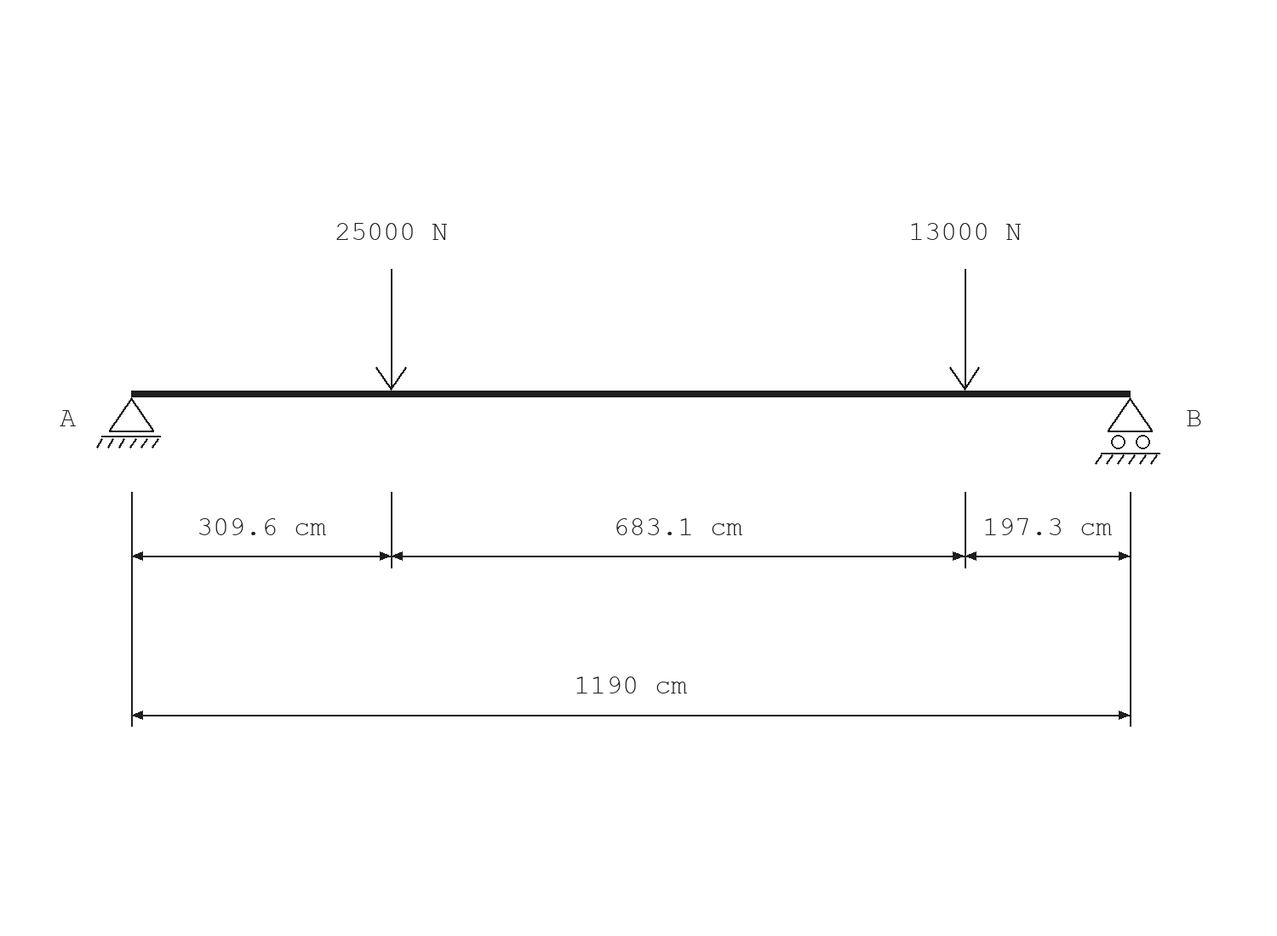pin_support: (96, 397, 161, 448)
point_load: (375, 269, 407, 391), (949, 269, 980, 391)
roller_support: (1095, 397, 1160, 465)
